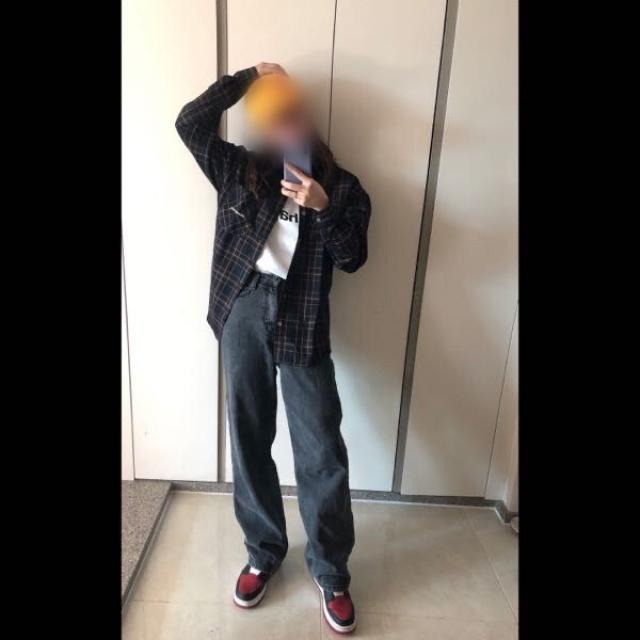denimpants: (220, 274, 358, 591)
shirt: (175, 66, 372, 368)
